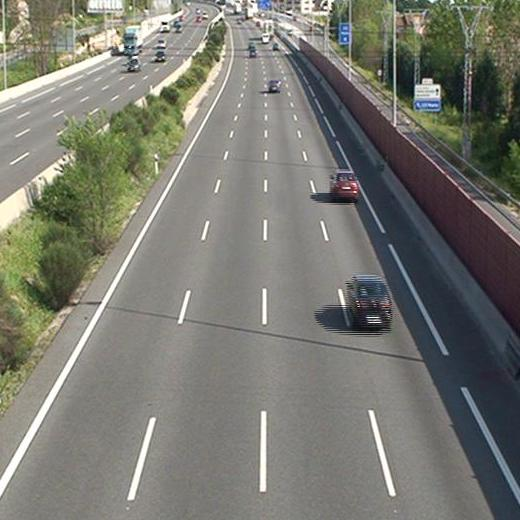car: (347, 277, 392, 326), (331, 172, 359, 199), (268, 81, 279, 92), (247, 50, 257, 57)
